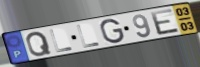9: (132, 14, 152, 39)
E: (149, 7, 182, 36)
G: (99, 18, 126, 45)
L: (48, 28, 74, 54), (75, 24, 101, 49)
Q: (25, 31, 53, 58)
